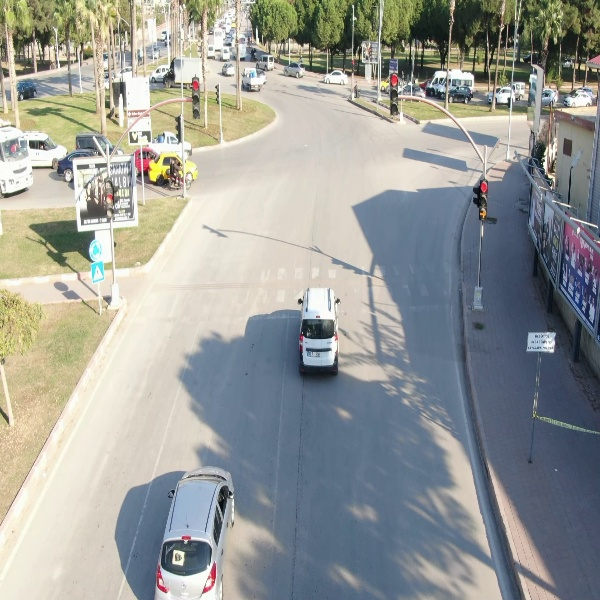car: (296, 285, 343, 382), (446, 85, 476, 105), (322, 67, 351, 87), (564, 89, 593, 108), (488, 86, 515, 106), (282, 61, 305, 82), (256, 50, 276, 72), (222, 59, 236, 78)
